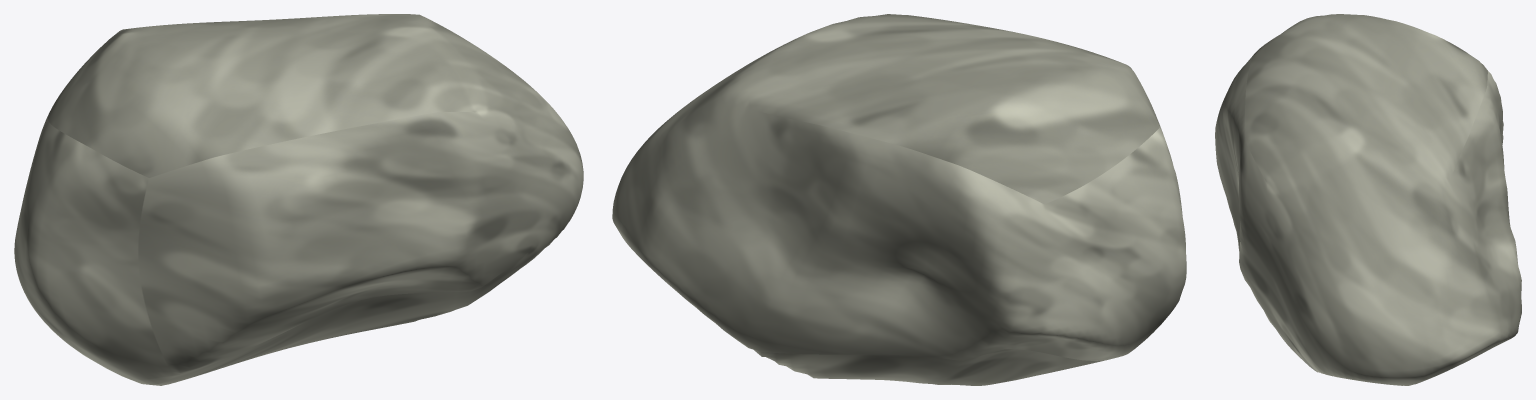
File: Rock2.fbx
The picture shows the model from 3 angles, left to right: view 1: azimuth 30°, elevation 25°; view 2: azimuth 150°, elevation 25°; view 3: azimuth 270°, elevation 25°; orthographic projection. The views are drawn at different scales.
Parts seen in each view (by area): view 1: Cube.001; view 2: Cube.001; view 3: Cube.001.
Part boxes in pixels (x1,y1,x2,y2): Cube.001: [14, 14, 583, 385]; Cube.001: [612, 14, 1186, 385]; Cube.001: [1215, 14, 1521, 385].
Size of the model in its own units: 174 by 100 by 102.
Materials: 1 (1 with a texture image).
